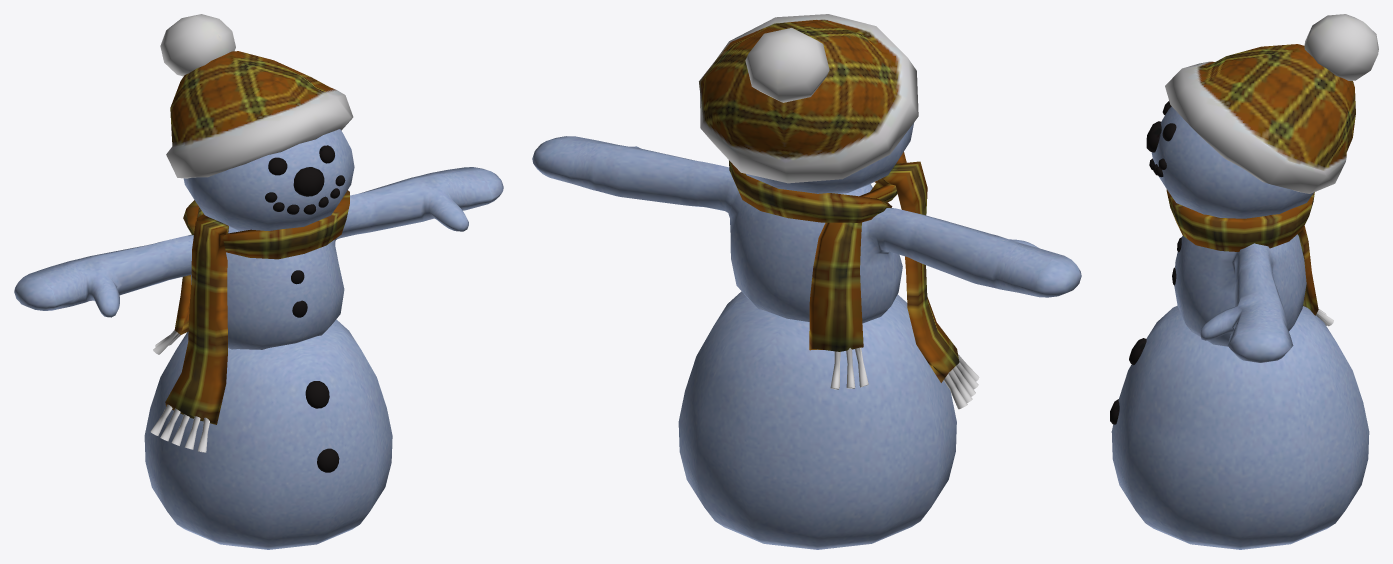
Rendered from MunecoRatchet.gltf.
The picture shows the model from 3 angles, left to right: view 1: azimuth 30°, elevation 25°; view 2: azimuth 150°, elevation 25°; view 3: azimuth 270°, elevation 25°; orthographic projection. The views are drawn at different scales.
Parts seen in each view (by area): view 1: Mesh_2_Mesh_2_mesh0001, Mesh_1_Mesh_1_mesh0000; view 2: Mesh_2_Mesh_2_mesh0001, Mesh_1_Mesh_1_mesh0000; view 3: Mesh_2_Mesh_2_mesh0001, Mesh_1_Mesh_1_mesh0000.
Part boxes in pixels (<box>): Mesh_2_Mesh_2_mesh0001: <box>14,167,503,549</box>; Mesh_1_Mesh_1_mesh0000: <box>160,14,354,231</box>; Mesh_2_Mesh_2_mesh0001: <box>532,136,1081,549</box>; Mesh_1_Mesh_1_mesh0000: <box>699,14,918,193</box>; Mesh_2_Mesh_2_mesh0001: <box>1110,189,1369,549</box>; Mesh_1_Mesh_1_mesh0000: <box>1146,14,1378,218</box>.
Bounding box in the file's own units: 5.42 × 5 × 2.55.
1 material, 1 textured.
